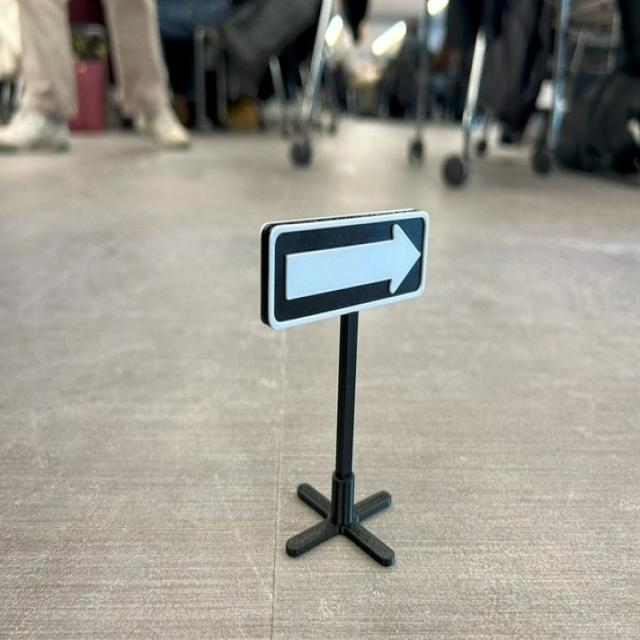sign_oneway_right: (256, 208, 432, 343)
